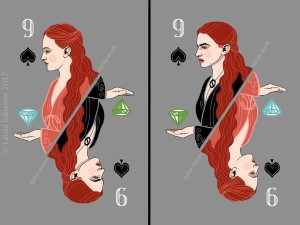NineOfSpades: (12, 15, 139, 214), (164, 15, 291, 214)
